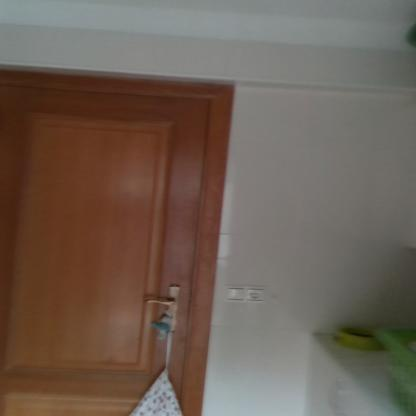door: (0, 85, 191, 415)
lever: (148, 298, 178, 310)
